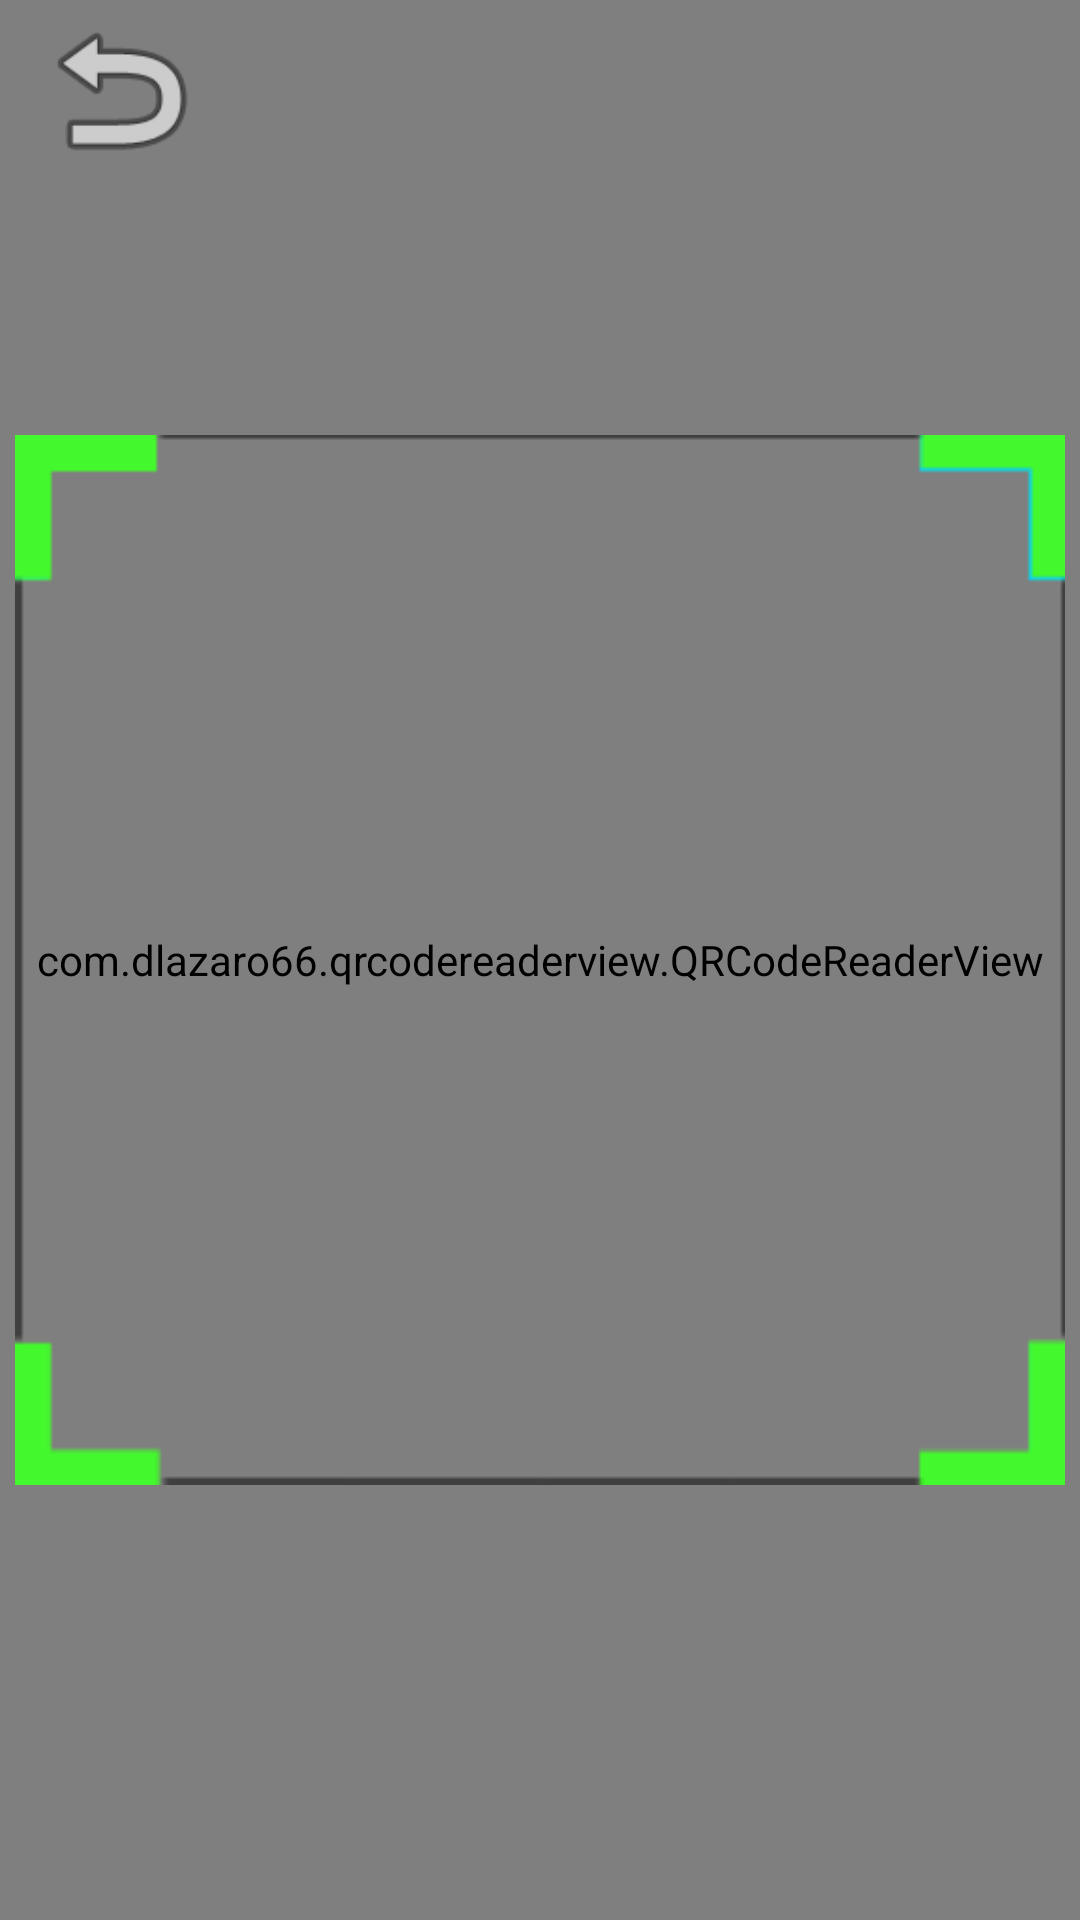

Locate icon controls on the screen. Image size 1080w x 1920h, boxes as (x1, y1, x2, y2).
revert: (58, 33, 187, 150)
